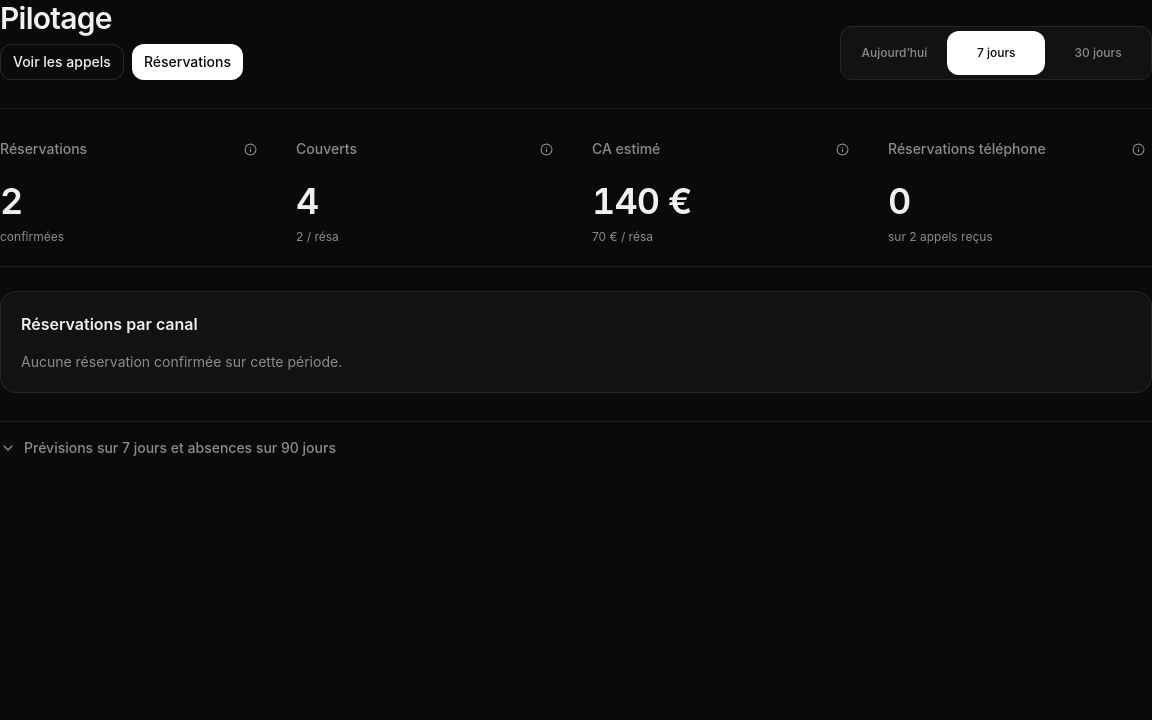
Test: Pilotage — situations de travail › une faible activité reste descriptive et donne accès aux limites de l’estimation
The image size is (1152, 720).
Expected: the element named "Indicateur Réservations" shows "2", [0,179,22,223]
Click the button named "Comprendre CA estimé" at (842, 149), box [820,127,864,171]
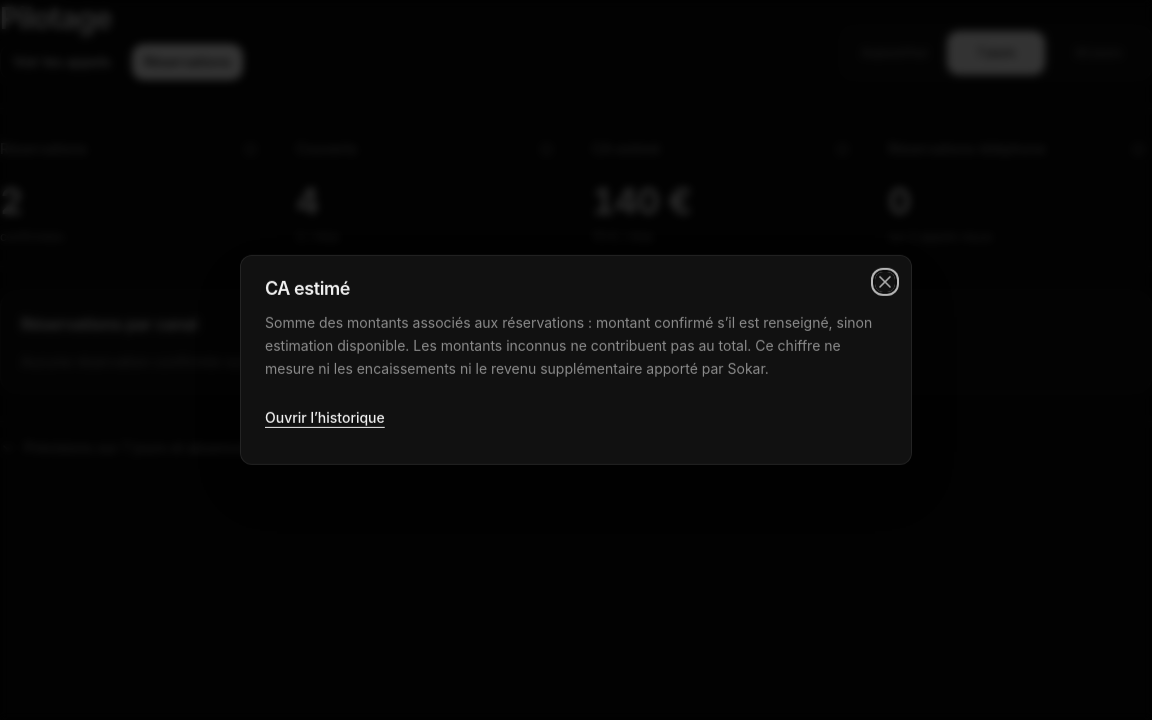
Result: the text "ne mesure ni les encaissements" is shown at [265,314,872,376]
